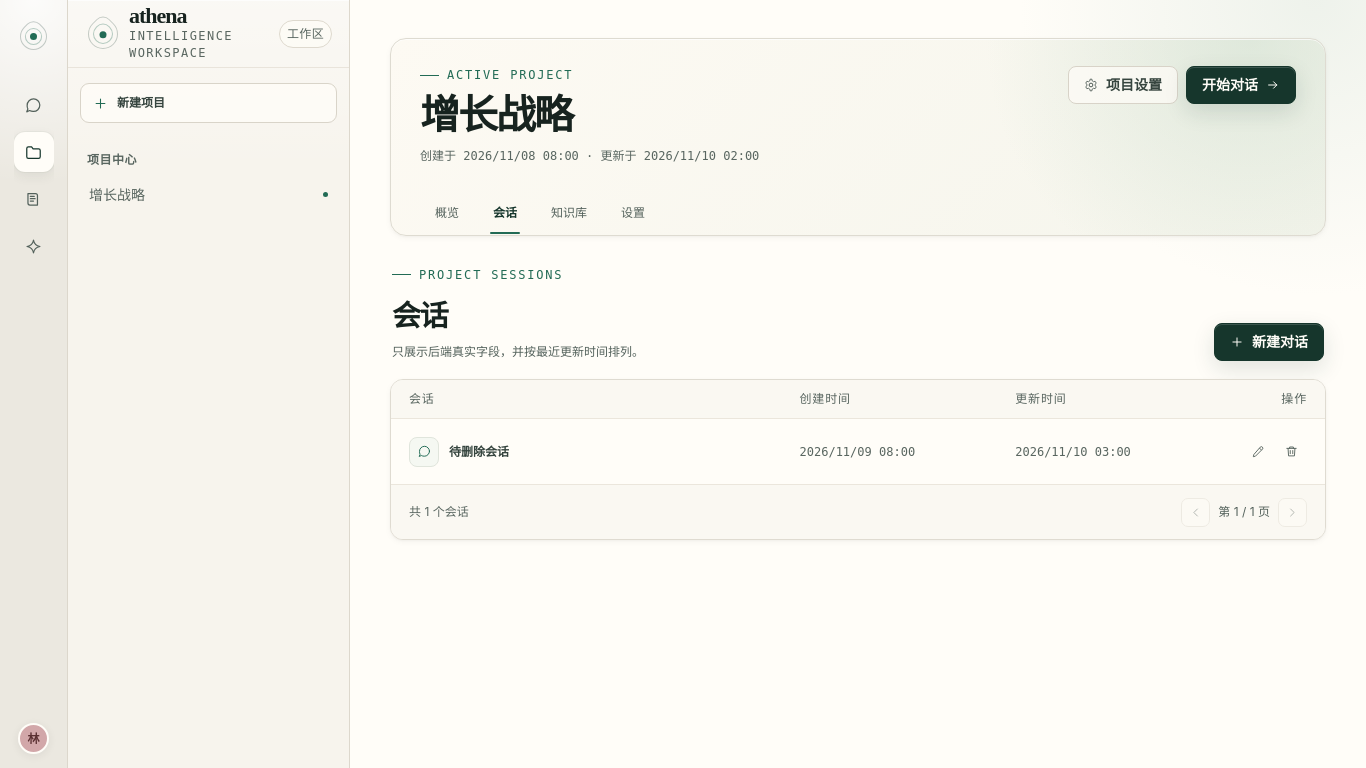
Test: 项目会话管理 › 删除 Session 成功并刷新为真实空态
Expected: the text "待删除会话" is shown, [449,443,509,461]
Click the button named "删除会话：待删除会话": (1292, 452) [1276,436,1307,467]
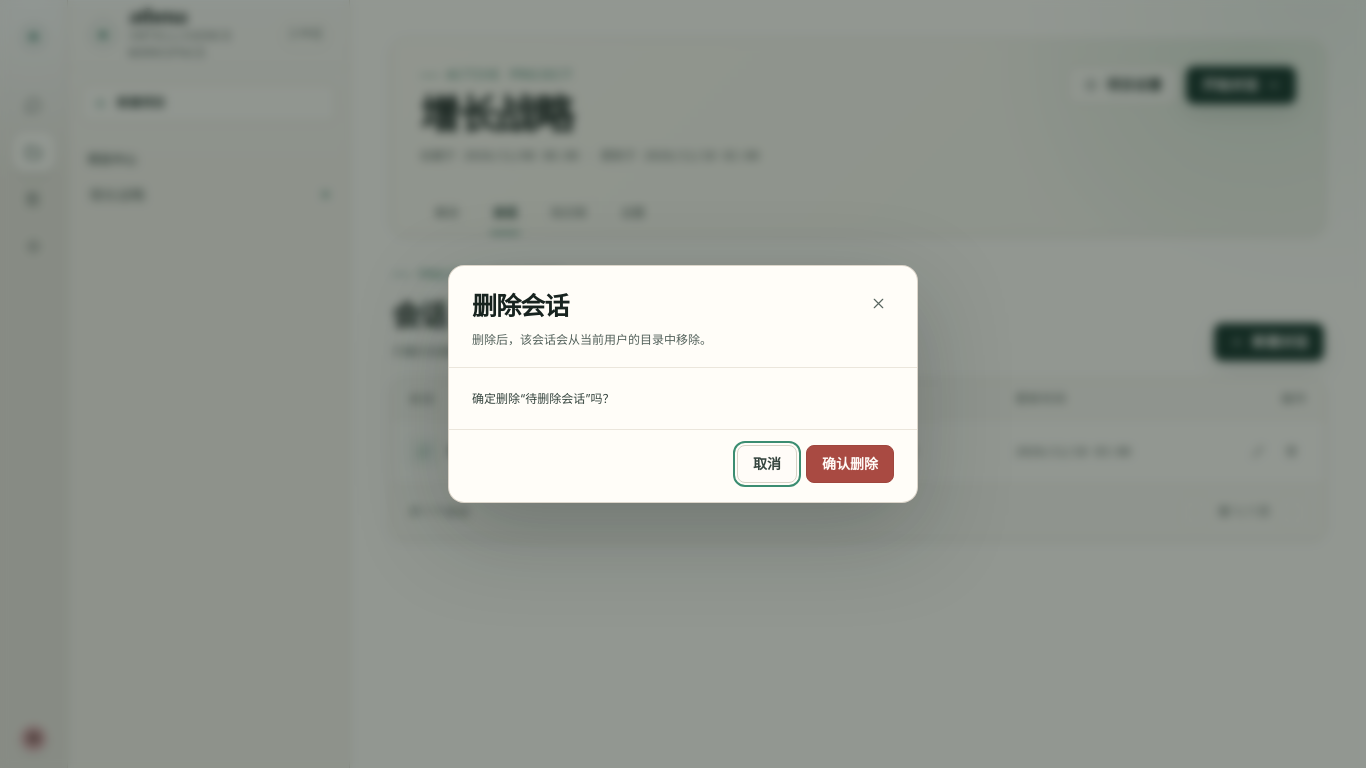
Click the button "确认删除": (850, 464) [806,445,894,483]
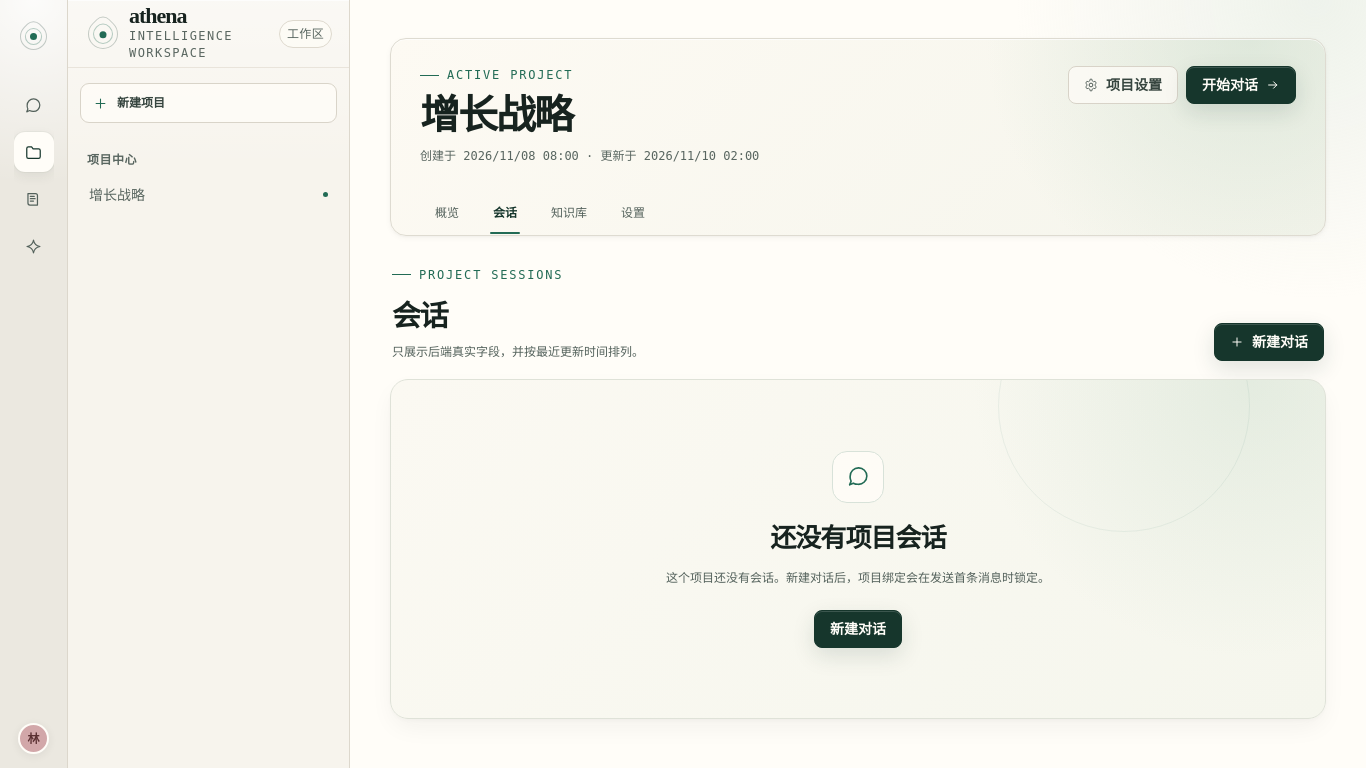
Expected: the heading "还没有项目会话" is shown, [770,524,946,553]
